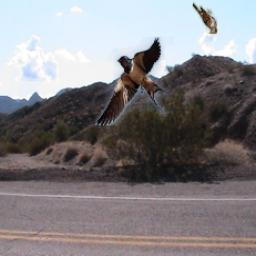Cuckoo: (193, 2, 217, 34)
Swallow: (94, 37, 173, 125)
